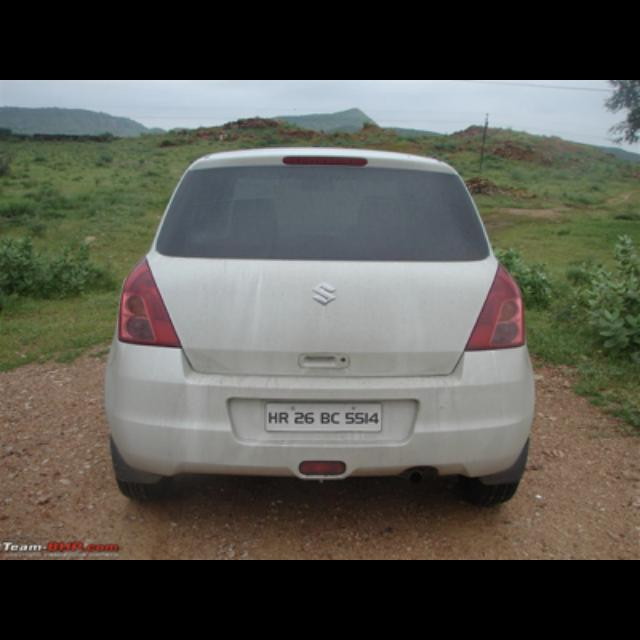carPlate: (266, 402, 382, 432)
